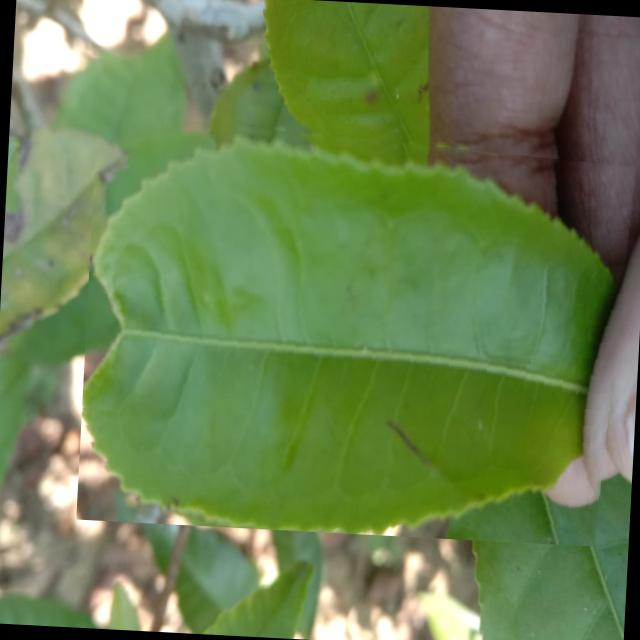Category B(2-4 days): (76, 110, 638, 547)
